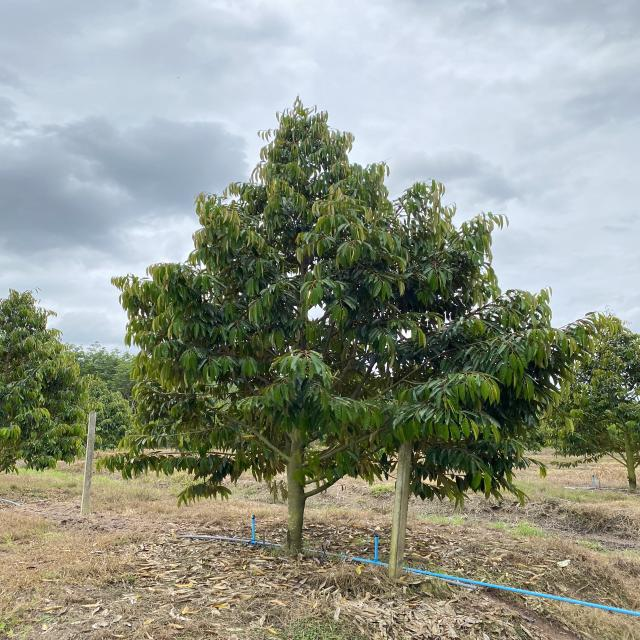Tree: (106, 77, 553, 550)
